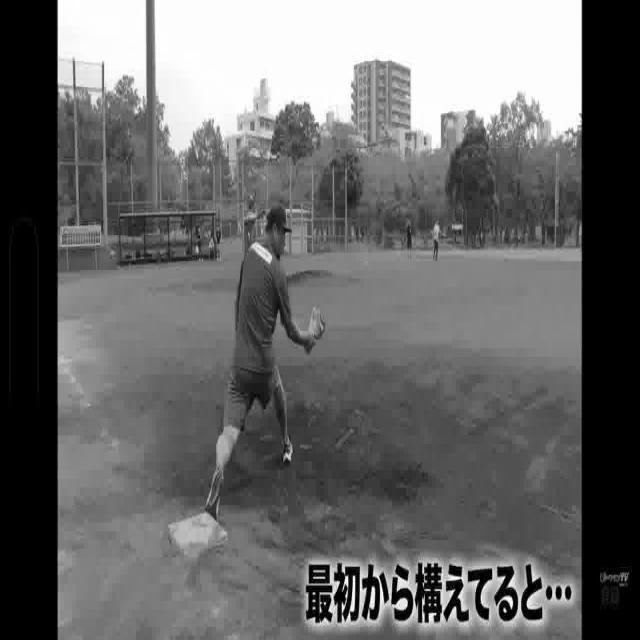base: (166, 510, 228, 562)
baseball_glove: (308, 310, 327, 348)
shoe: (207, 464, 223, 530), (280, 433, 292, 471)
